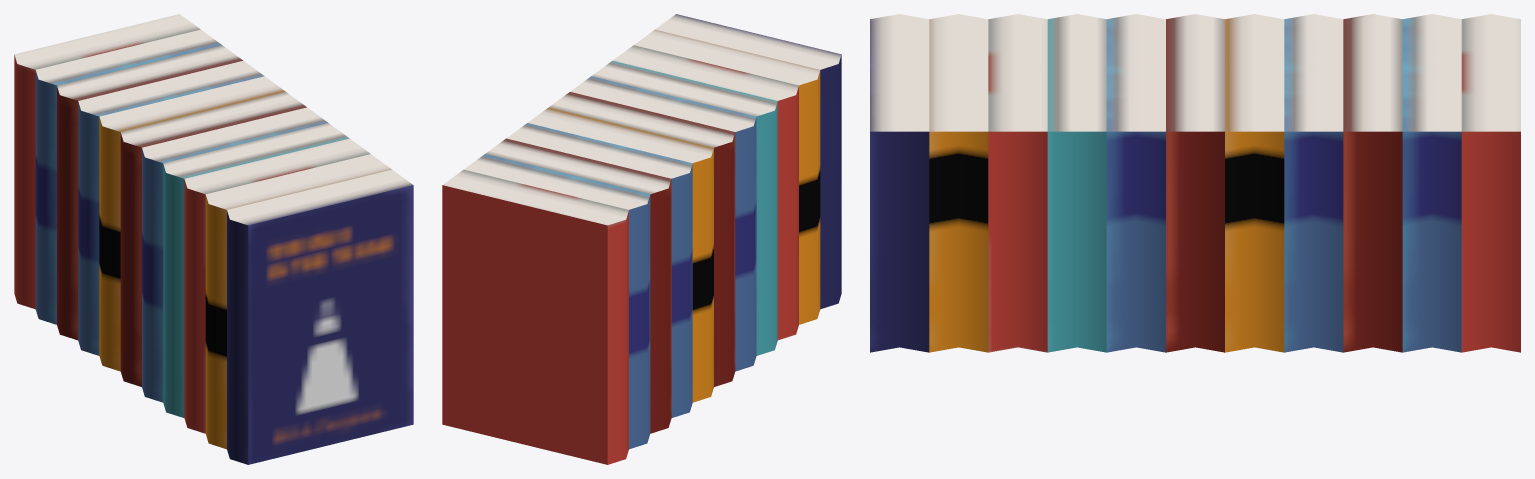
The model's file is TNP0110013.FBX.
3 views of the same model, side by side, from view 1: azimuth 30°, elevation 25°; view 2: azimuth 150°, elevation 25°; view 3: azimuth 270°, elevation 25° (orthographic). The views are drawn at different scales.
Parts seen in each view (by area): view 1: smTNP0110013; view 2: smTNP0110013; view 3: smTNP0110013.
Boxes of the visible parts, box(x1,y1,x2,y2) form: smTNP0110013: box(14, 14, 413, 464); smTNP0110013: box(442, 14, 841, 464); smTNP0110013: box(870, 14, 1520, 352).
Bounding box in the file's own units: 0.2093 × 0.2768 × 0.4898.
1 material, 1 textured.
